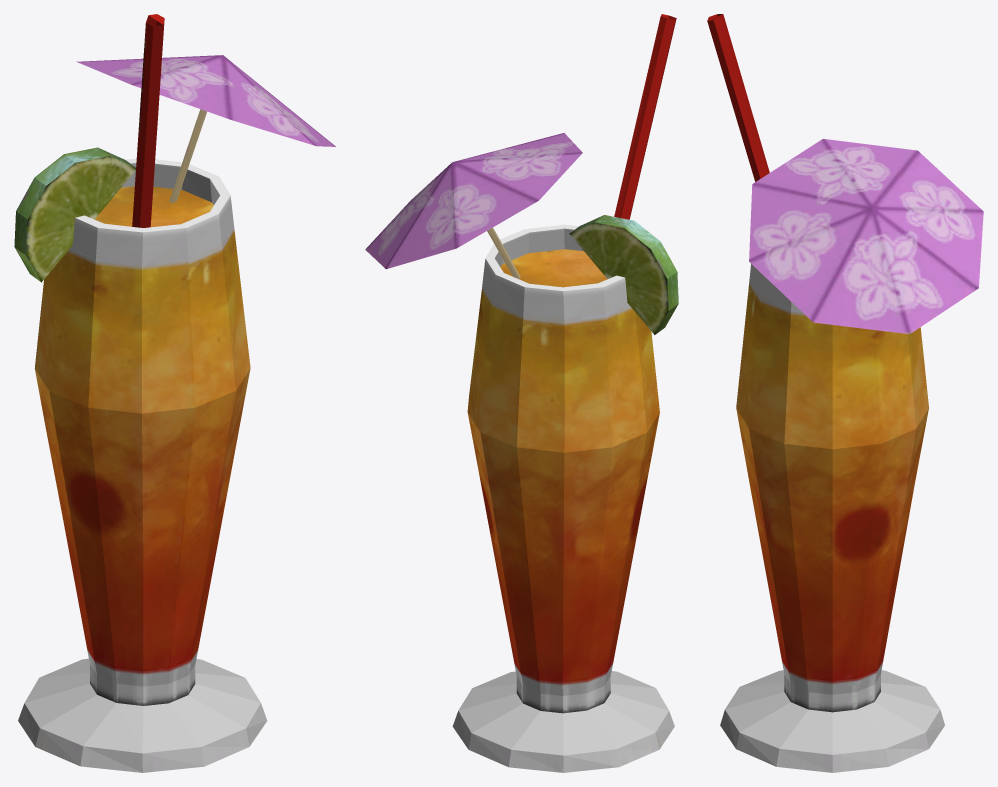
File: Drink Cocktail.obj
3 views of the same model, side by side, from view 1: azimuth 30°, elevation 25°; view 2: azimuth 150°, elevation 25°; view 3: azimuth 270°, elevation 25° (orthographic). The views are drawn at different scales.
Visible parts, largest first — view 1: Mesh_0938.rip_Tex_002, Mesh_0942.rip_Tex_002; view 2: Mesh_0938.rip_Tex_002, Mesh_0942.rip_Tex_002; view 3: Mesh_0938.rip_Tex_002.
Part boxes in pixels (x1,y1,x2,y2): Mesh_0938.rip_Tex_002: (14,14,335,772); Mesh_0942.rip_Tex_002: (95,186,213,227); Mesh_0938.rip_Tex_002: (365,14,678,772); Mesh_0942.rip_Tex_002: (500,249,607,287); Mesh_0938.rip_Tex_002: (707,14,983,772).
Size of the model in its own units: 0.198 by 0.472 by 0.172.
